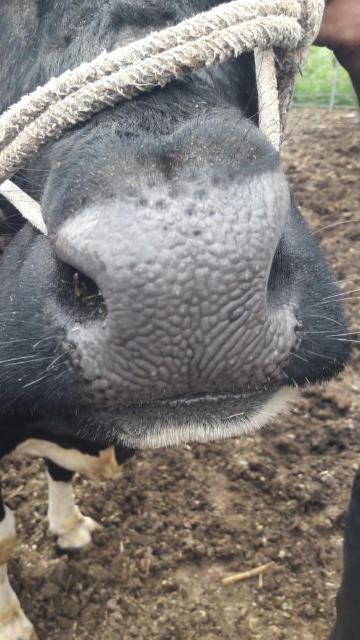Muzzle: (81, 208, 288, 376)
